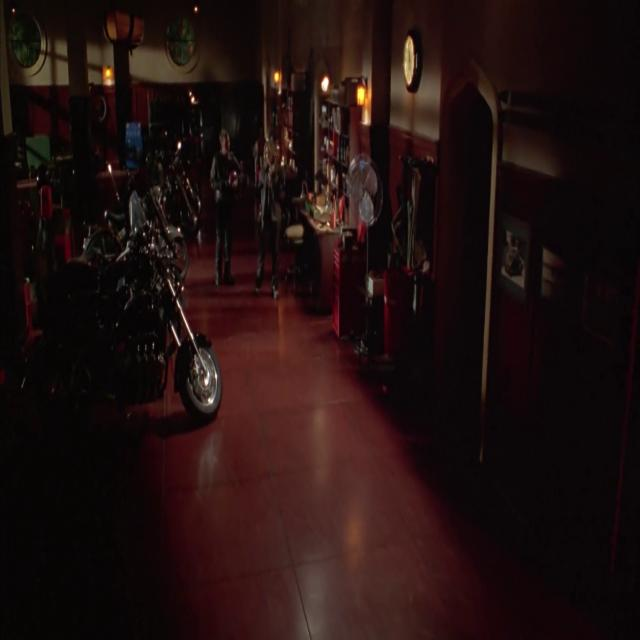Motorbike: (24, 210, 225, 420)
